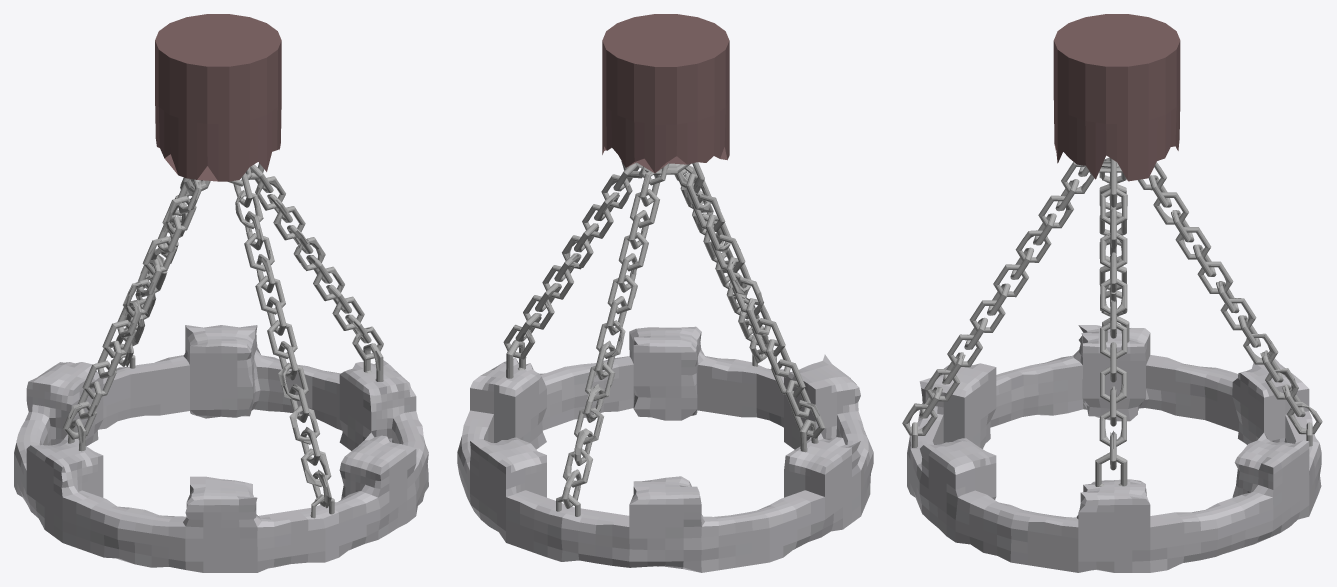
Rendered from Chandalier.fbx.
3 views of the same model, side by side, from view 1: azimuth 30°, elevation 25°; view 2: azimuth 150°, elevation 25°; view 3: azimuth 270°, elevation 25° (orthographic).
Parts seen in each view (by area): view 1: Cylinder, Cylinder.046; view 2: Cylinder, Cylinder.046; view 3: Cylinder, Cylinder.046.
Part boxes in pixels (box(x1,y1,x2,y2)): Cylinder: box(14, 325, 428, 572); Cylinder.046: box(63, 14, 383, 518); Cylinder: box(457, 326, 873, 572); Cylinder.046: box(503, 14, 825, 516); Cylinder: box(907, 325, 1321, 572); Cylinder.046: box(902, 14, 1322, 486).
Size of the model in its own units: 482 by 580 by 496.
